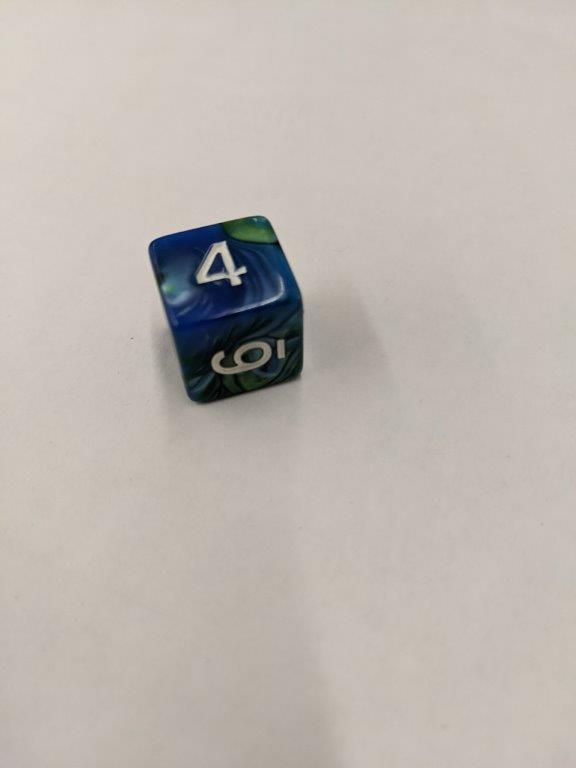d6-4: (148, 211, 304, 406)
